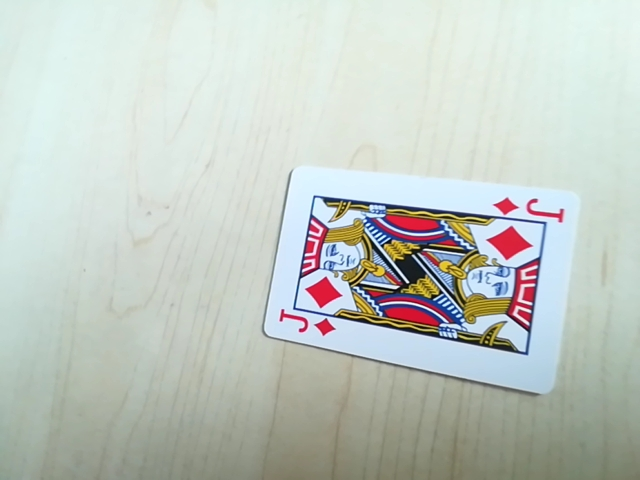fk j: (493, 193, 566, 222), (274, 312, 338, 341)
